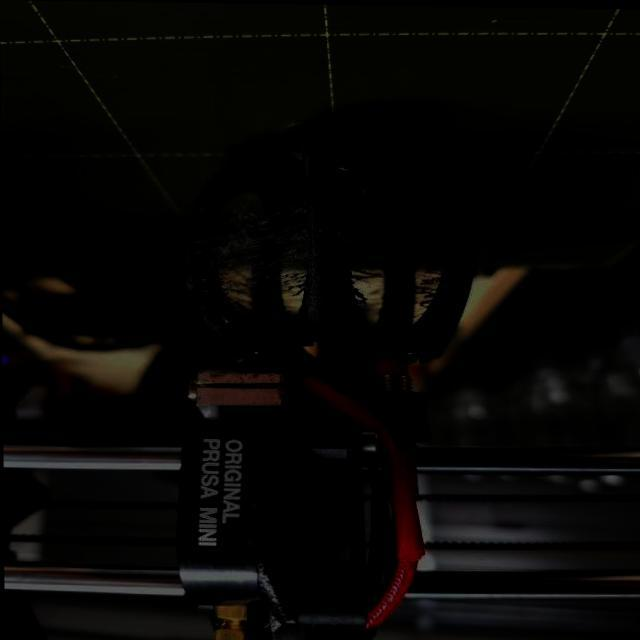stringing: (338, 187, 457, 302), (199, 200, 314, 306)
